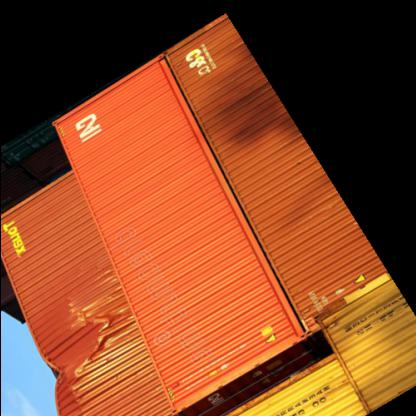Damage: (44, 298, 106, 388)
